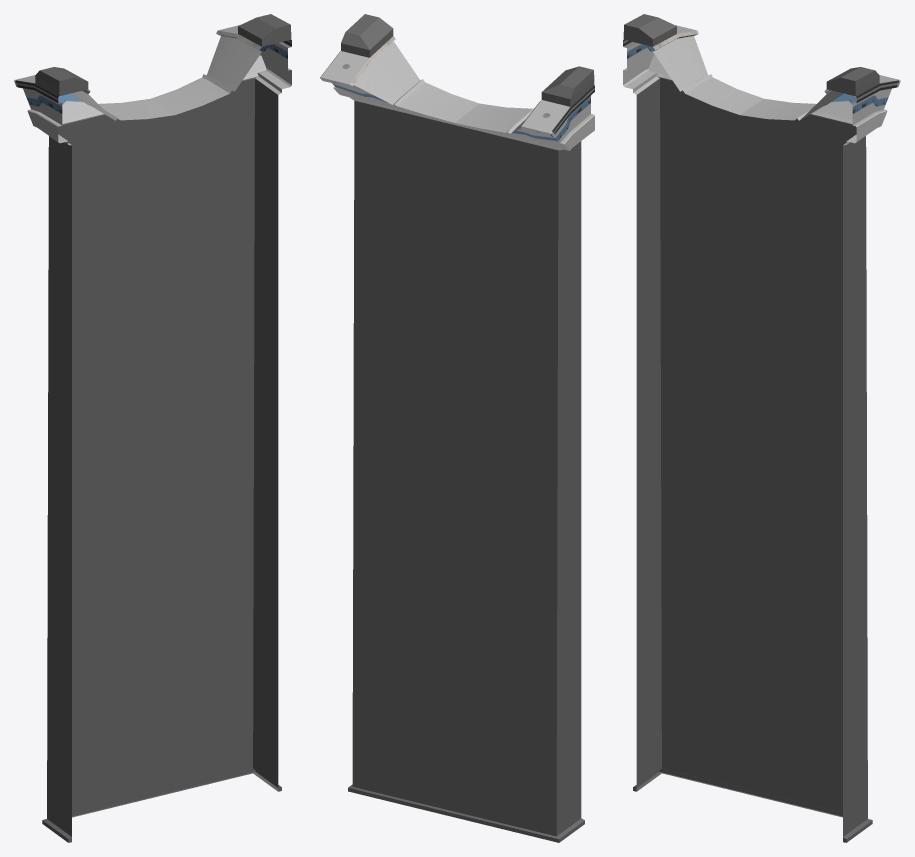
Rendered from aquaduct end spillway.fbx.
3 views of the same model, side by side, from view 1: azimuth 30°, elevation 25°; view 2: azimuth 150°, elevation 25°; view 3: azimuth 330°, elevation 25° (orthographic).
Parts seen in each view (by area): view 1: aquaduct_end_piece2; view 2: aquaduct_end_piece2; view 3: aquaduct_end_piece2.
Part boxes in pixels (left/top/right/bottom): aquaduct_end_piece2: left=14, top=14, right=291, bottom=842; aquaduct_end_piece2: left=320, top=14, right=594, bottom=842; aquaduct_end_piece2: left=623, top=14, right=900, bottom=842.
Bounding box in the file's own units: 2.79 × 8.73 × 0.9273.
Materials: 2 (1 with a texture image).
